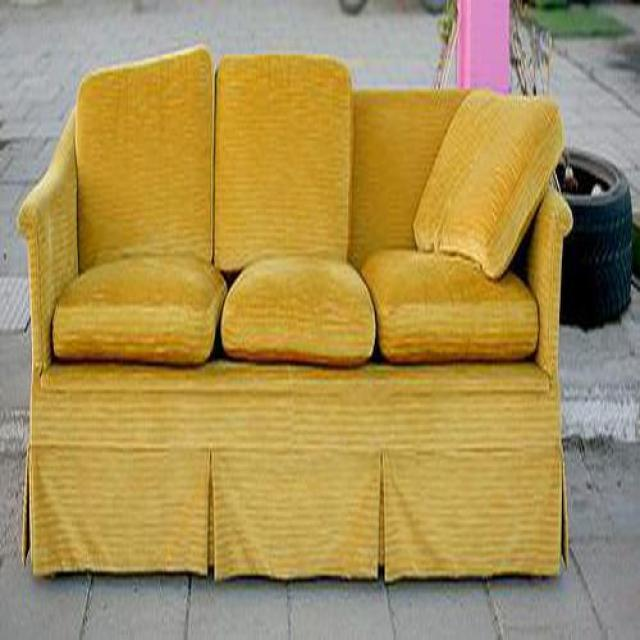sofa: (17, 47, 579, 588)
